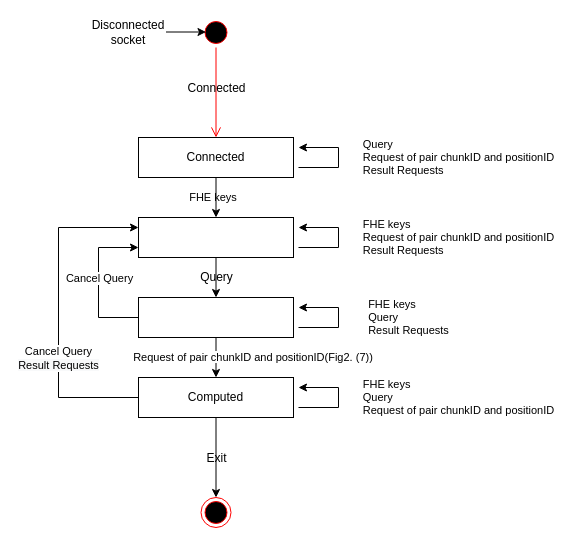
The diagram is 571 pixels wide and 545 high, and some of its shapes have lost their labels. Here are the shapes that lost their labels. From the top down, the centre of each, then its label:
the point at 216,237: Ready
the point at 216,317: Computing
